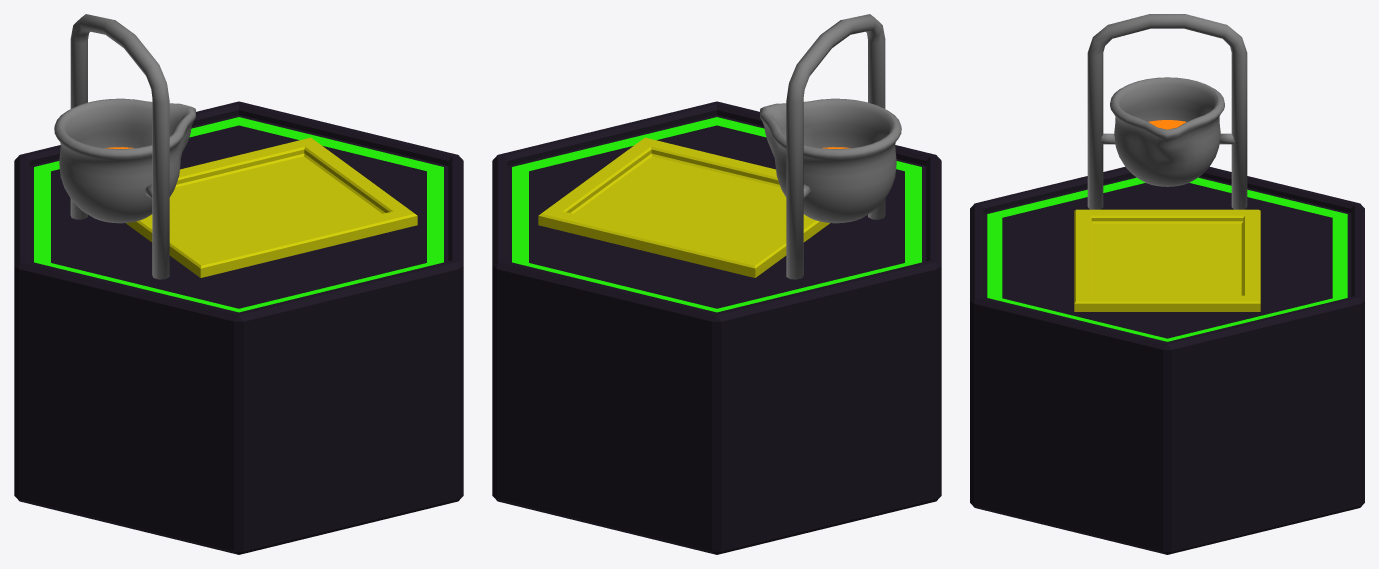
The model's file is smelter.fbx.
3 renders of one model, left to right at view 1: azimuth 30°, elevation 25°; view 2: azimuth 150°, elevation 25°; view 3: azimuth 270°, elevation 25°, orthographic. The views are drawn at different scales.
Visible parts, largest first — view 1: BASE BLOCK, ph_industrial; view 2: BASE BLOCK, ph_industrial; view 3: BASE BLOCK, ph_industrial.
Part boxes in pixels (<box>): BASE BLOCK: <box>14,101,463,554</box>; ph_industrial: <box>54,14,417,279</box>; BASE BLOCK: <box>492,101,941,554</box>; ph_industrial: <box>538,14,901,279</box>; BASE BLOCK: <box>970,166,1364,554</box>; ph_industrial: <box>1074,14,1260,311</box>.
Bounding box in the file's own units: 23830 × 23063 × 20850.
